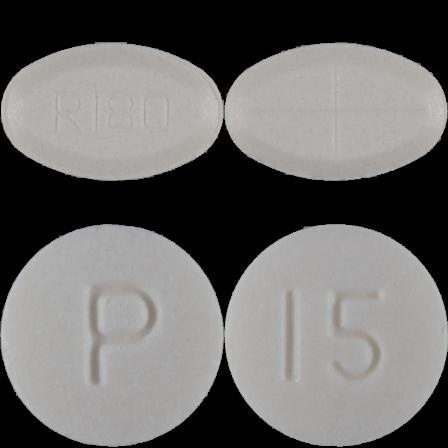66336-843: (0, 0, 224, 224)
